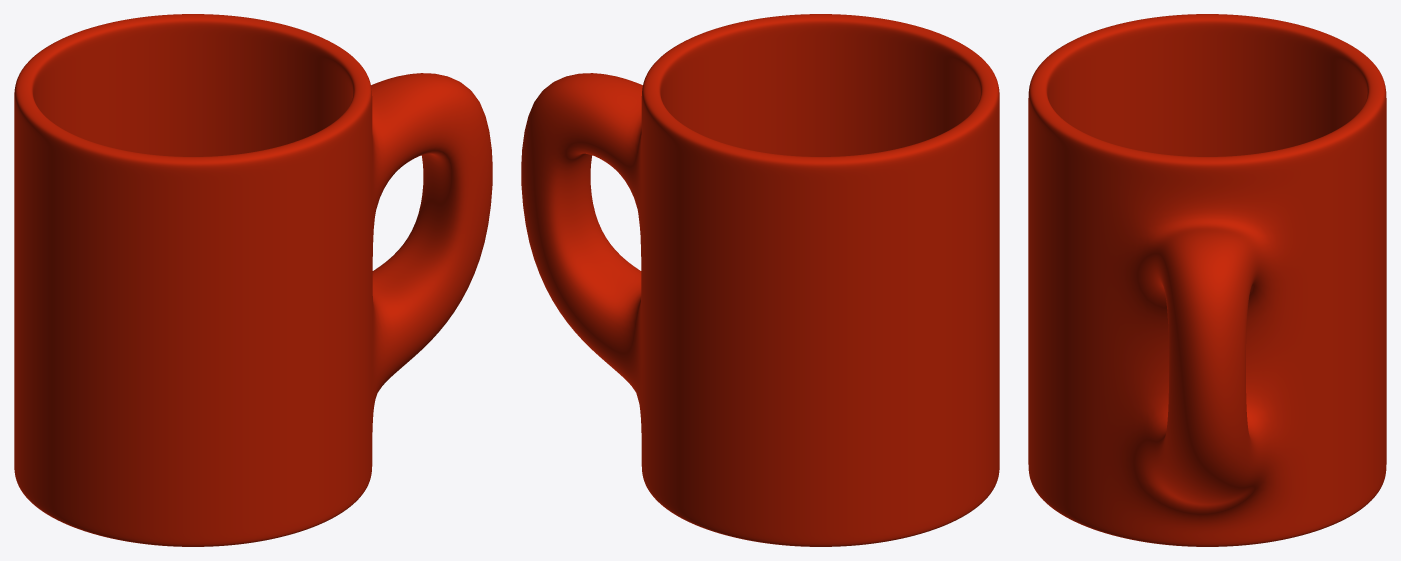
Rendered from Cup FBX.FBX.
3 renders of one model, left to right at view 1: azimuth 30°, elevation 25°; view 2: azimuth 150°, elevation 25°; view 3: azimuth 270°, elevation 25°, orthographic.
Visible parts, largest first — view 1: Cup; view 2: Cup; view 3: Cup.
Boxes of the visible parts, <box> form: Cup: <box>14,14,492,546</box>; Cup: <box>521,14,999,546</box>; Cup: <box>1028,14,1386,546</box>.
Bounding box in the file's own units: 128 × 105 × 88.22.
